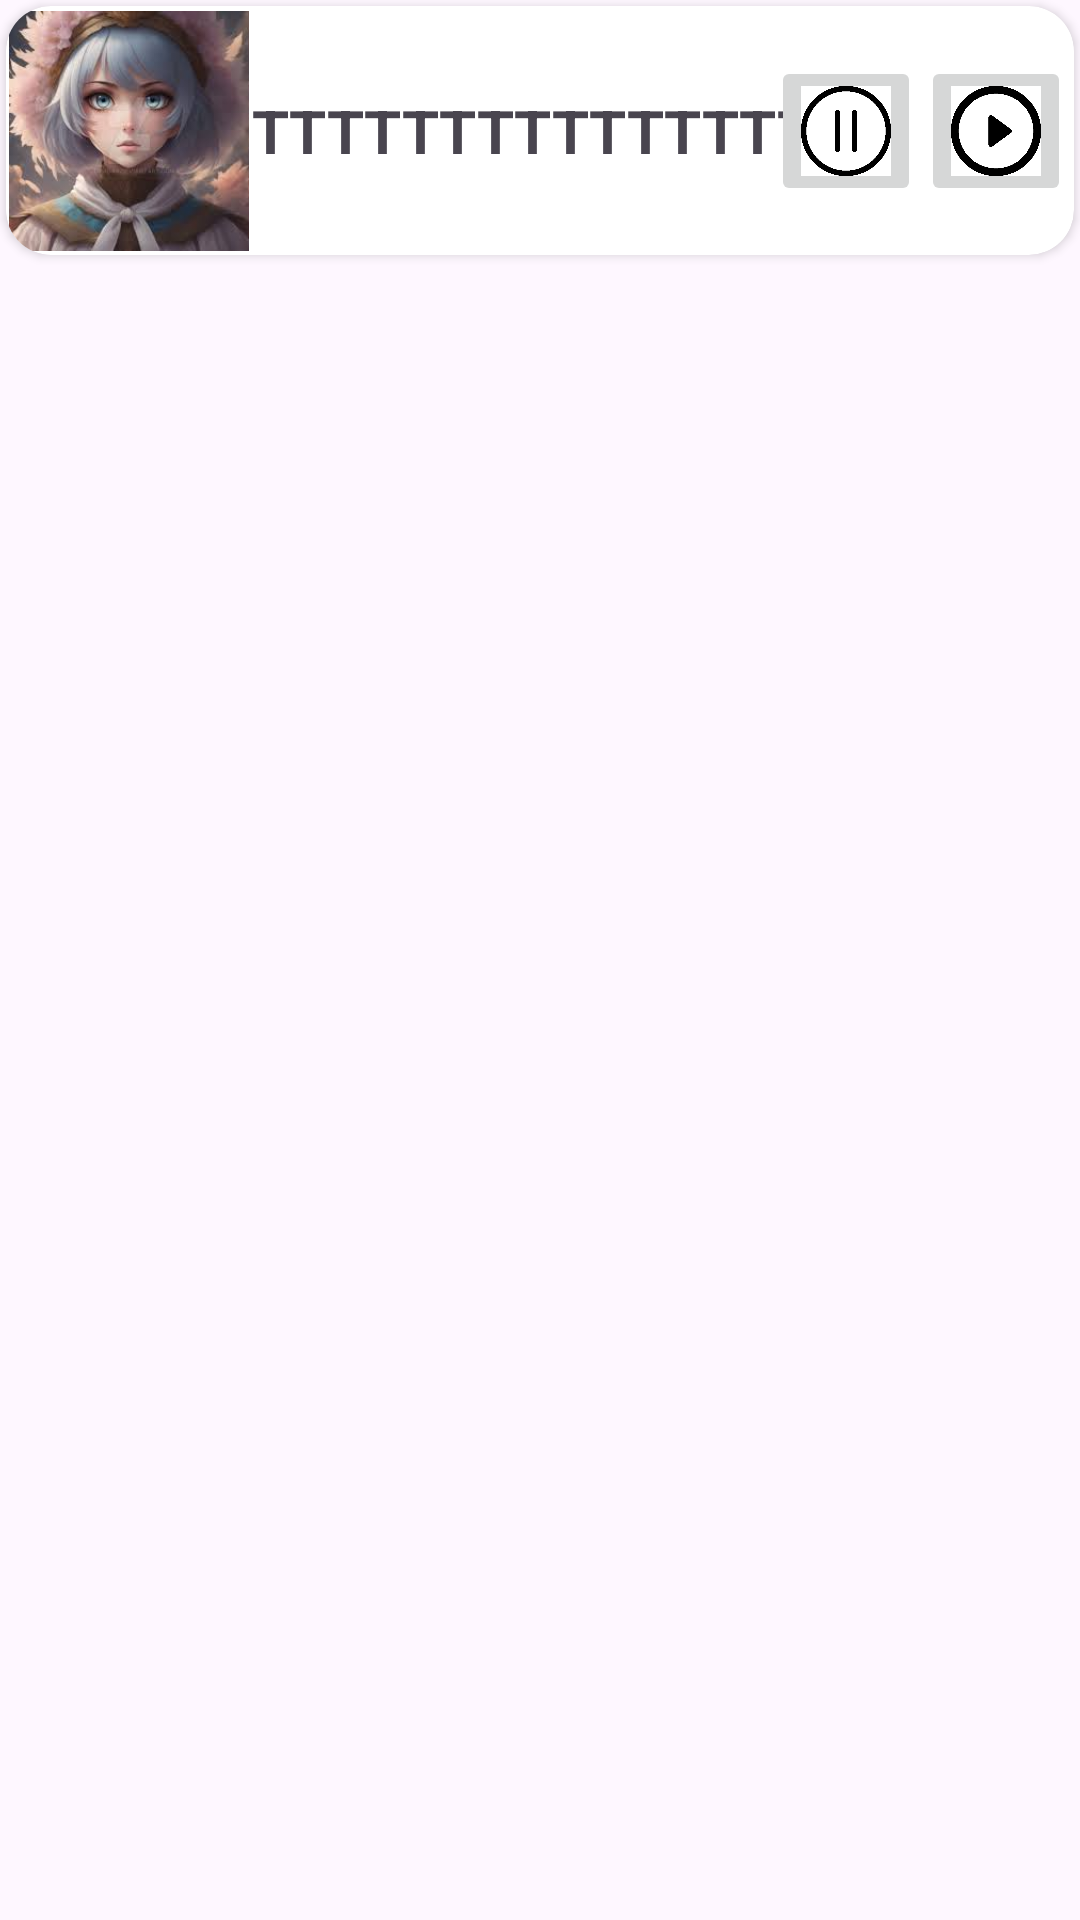

Icon click points for this 1080px x 1920px phone screenshot, format [x,y]:
pause: [843,131]
play: [996,131]
